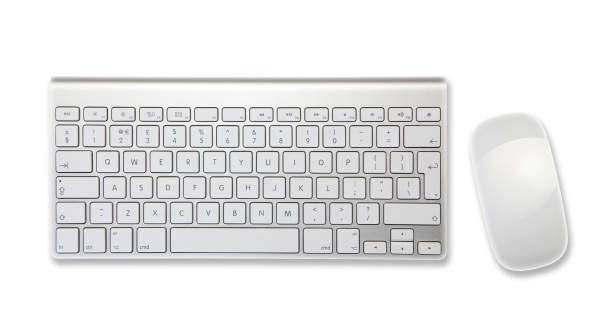keyboard: (51, 99, 445, 258)
